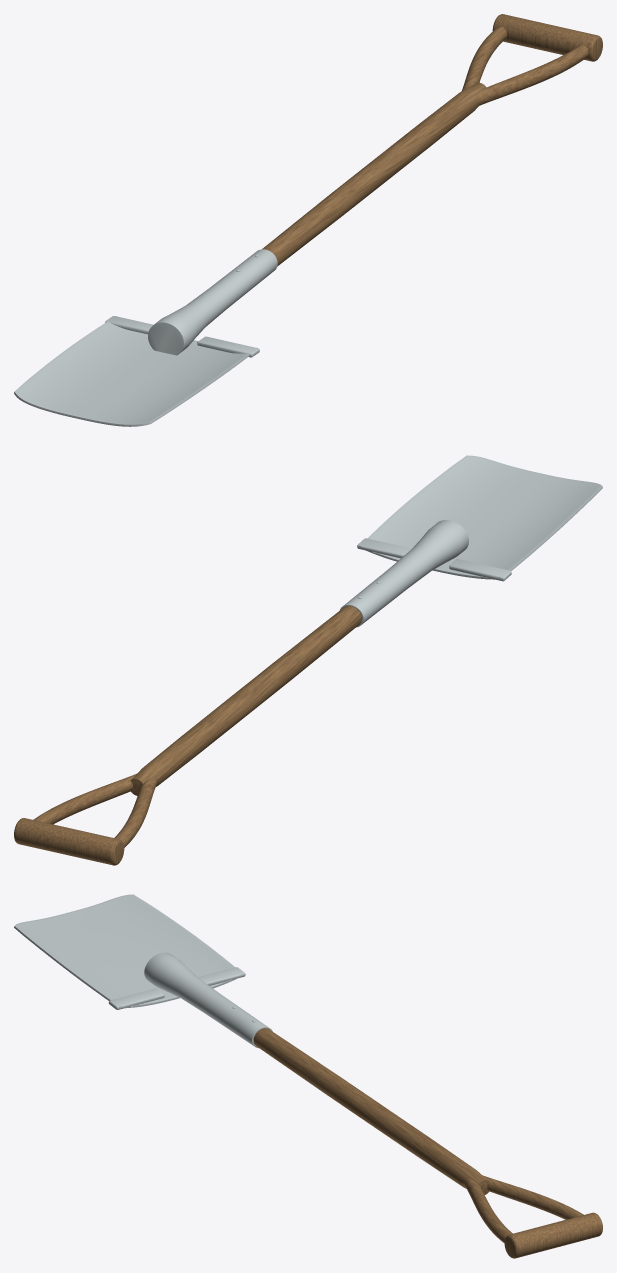
File: long-handled-spade.glb
The picture shows the model from 3 angles, top to bottom: view 1: azimuth 30°, elevation 25°; view 2: azimuth 210°, elevation 25°; view 3: azimuth 270°, elevation 25°; orthographic projection. The views are drawn at different scales.
Parts seen in each view (by area): view 1: Steel body | blade neck socket continuous, Hardwood shaft and split wishbone, Hardwood crossbar grip; view 2: Steel body | blade neck socket continuous, Hardwood shaft and split wishbone, Hardwood crossbar grip; view 3: Steel body | blade neck socket continuous, Hardwood shaft and split wishbone, Hardwood crossbar grip.
Part boxes in pixels (box(x1,y1,x2,y2)): Steel body | blade neck socket continuous: box(14, 249, 277, 426); Hardwood shaft and split wishbone: box(262, 26, 588, 266); Hardwood crossbar grip: box(492, 14, 602, 61); Steel body | blade neck socket continuous: box(339, 455, 602, 627); Hardwood shaft and split wishbone: box(33, 605, 361, 847); Hardwood crossbar grip: box(14, 818, 124, 865); Steel body | blade neck socket continuous: box(14, 894, 272, 1048); Hardwood shaft and split wishbone: box(253, 1028, 583, 1243); Hardwood crossbar grip: box(504, 1212, 602, 1258).
Bounding box in the file's own units: 1.13 × 0.0456 × 0.7915.
3 materials, 2 textured.
